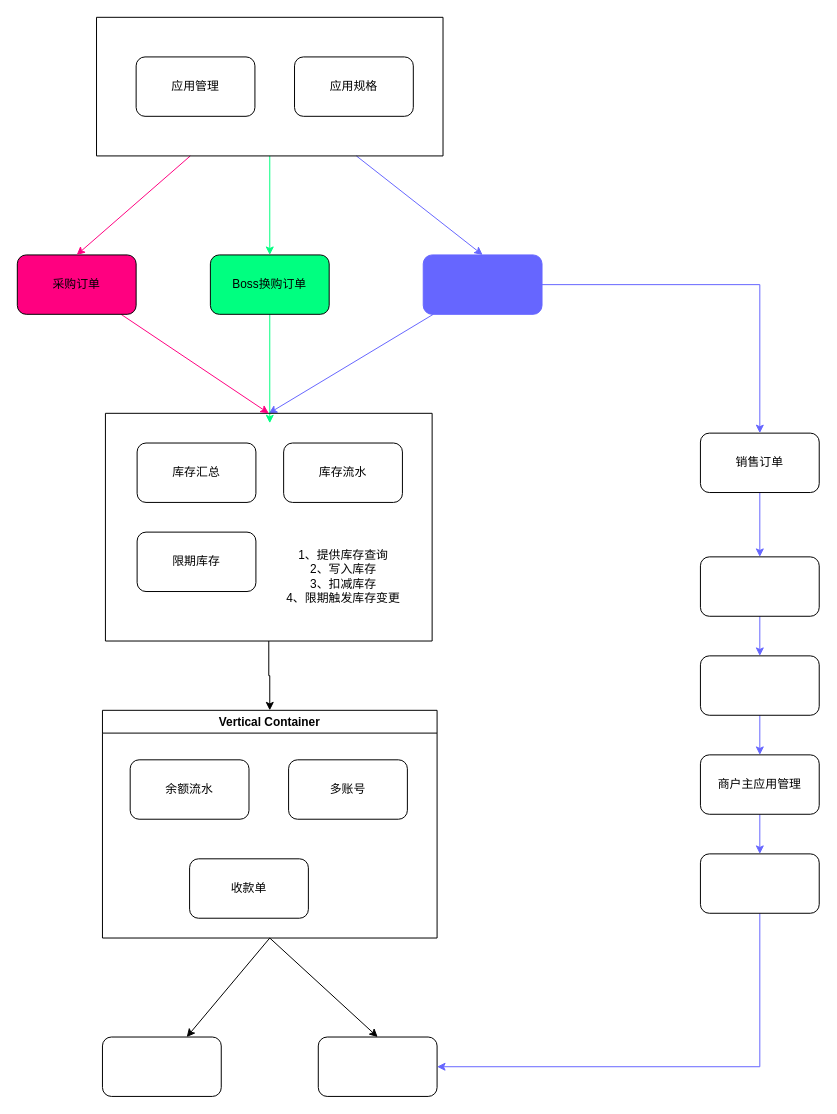
Some shapes in this 837 by 1114 pixel diagram are drawn without their labels. Each missing label, with the centre of its shape:
"Boss授权订单" goes at (482,284).
"Saas授权记录" goes at (759,586).
"三方通知" goes at (759,685).
"业绩" goes at (161,1066).
"分润" goes at (759,883).
"收入" goes at (377,1066).
